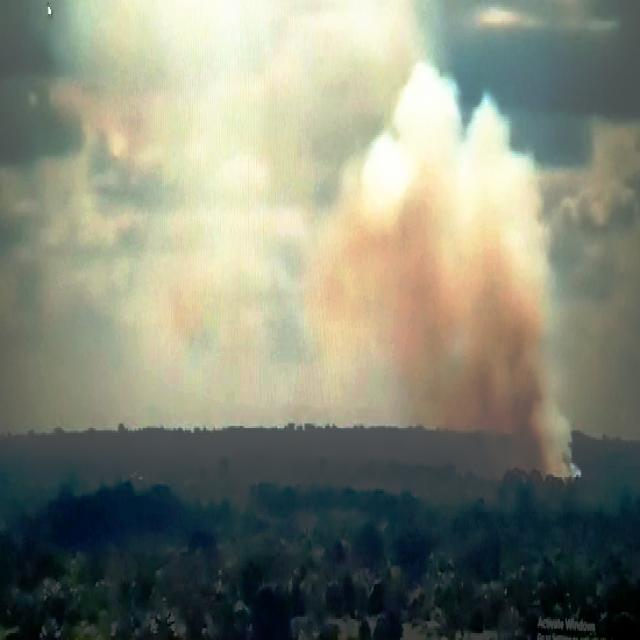asap: (300, 43, 590, 504)
